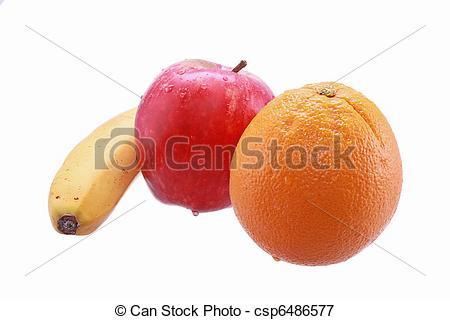apple: (128, 56, 282, 221)
banana: (43, 74, 183, 244)
orange: (228, 83, 401, 270)
